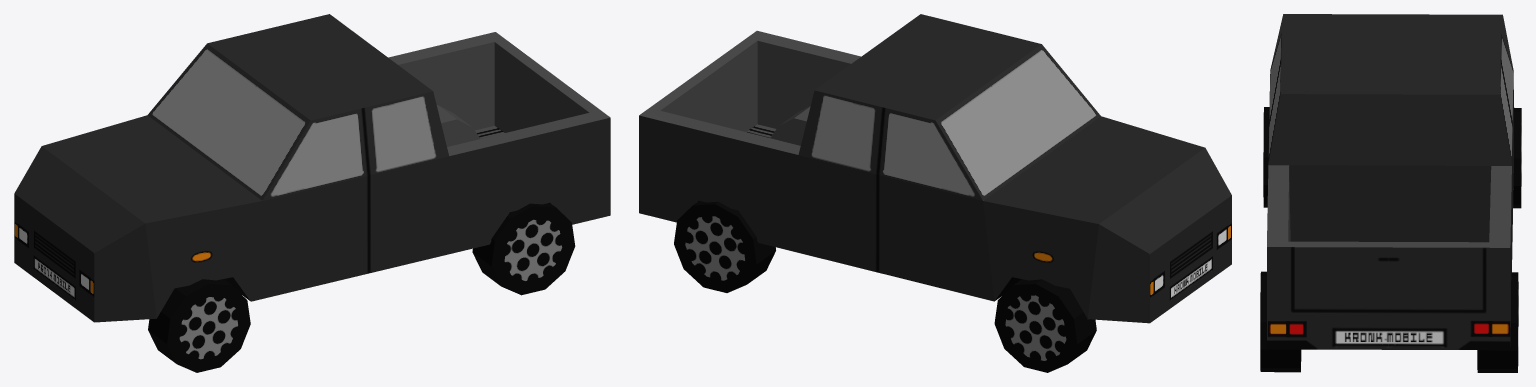
The model's file is Pickup_truck01.fbx.
The picture shows the model from 3 angles, left to right: view 1: azimuth 30°, elevation 25°; view 2: azimuth 150°, elevation 25°; view 3: azimuth 270°, elevation 25°; orthographic projection. The views are drawn at different scales.
Visible parts, largest first — view 1: Pickup_truck01; view 2: Pickup_truck01; view 3: Pickup_truck01.
Part boxes in pixels (left/top/right/bottom): Pickup_truck01: left=14, top=14, right=610, bottom=372; Pickup_truck01: left=639, top=14, right=1231, bottom=372; Pickup_truck01: left=1260, top=14, right=1521, bottom=372.
Size of the model in its own units: 4.7 by 1.95 by 2.05.
3 materials, 2 textured.
